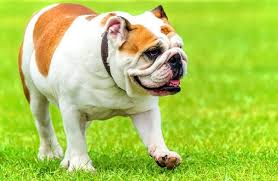Bulldog: (23, 1, 193, 173)
